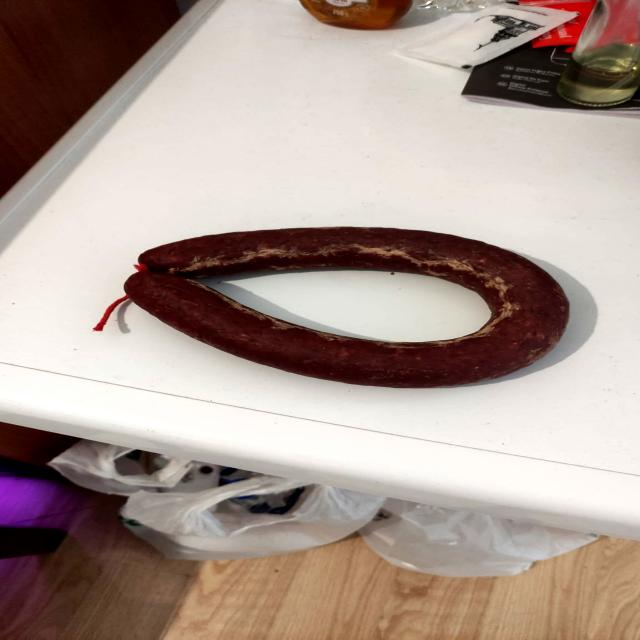sausage: (113, 207, 592, 394)
